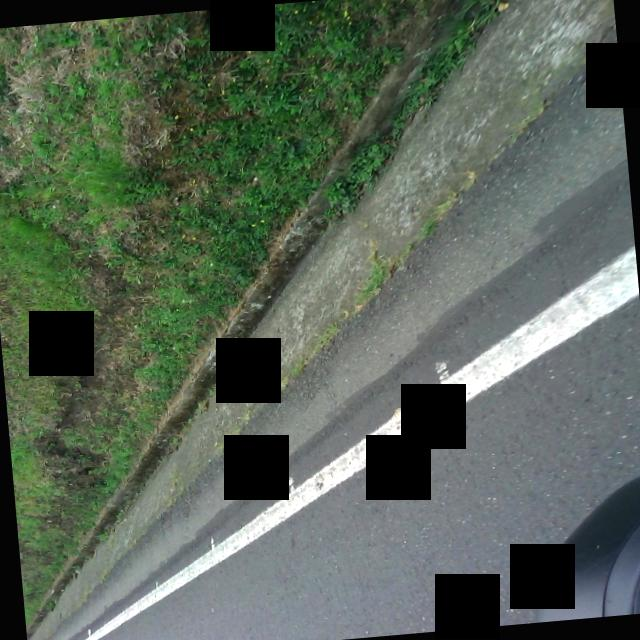DITCH: (0, 0, 640, 640), (38, 0, 640, 611)
